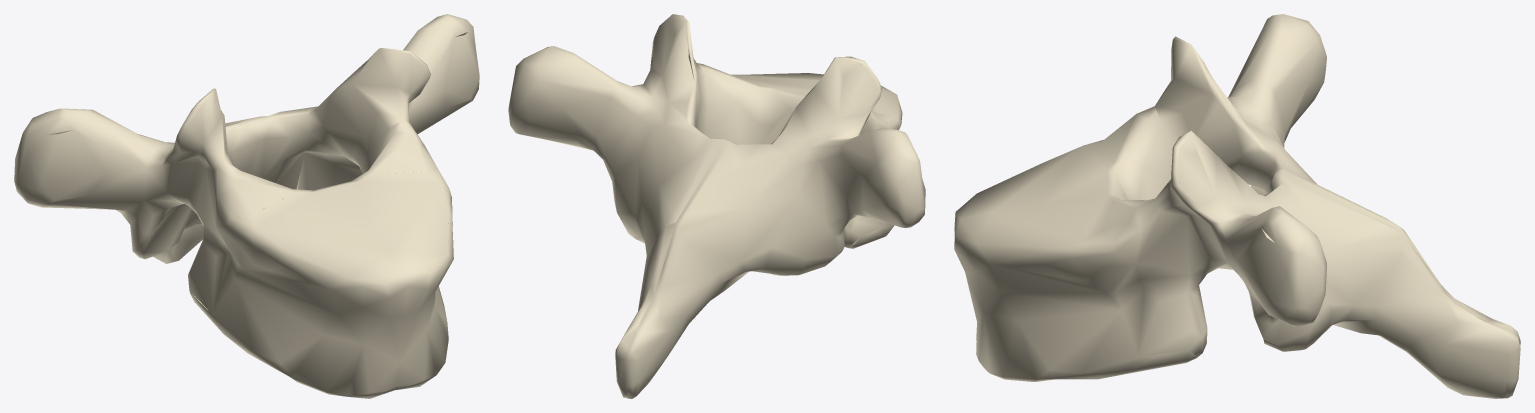
File: esqueleto-vertebra-t4.glb
3 views of the same model, side by side, from view 1: azimuth 30°, elevation 25°; view 2: azimuth 150°, elevation 25°; view 3: azimuth 270°, elevation 25° (orthographic). The views are drawn at different scales.
Parts seen in each view (by area): view 1: Vertebra T4; view 2: Vertebra T4; view 3: Vertebra T4.
Boxes of the visible parts, <box> form: Vertebra T4: <box>14,14,479,398</box>; Vertebra T4: <box>508,14,925,398</box>; Vertebra T4: <box>954,14,1520,398</box>.
Size of the model in its own units: 0.0709 by 0.043 by 0.0713.
